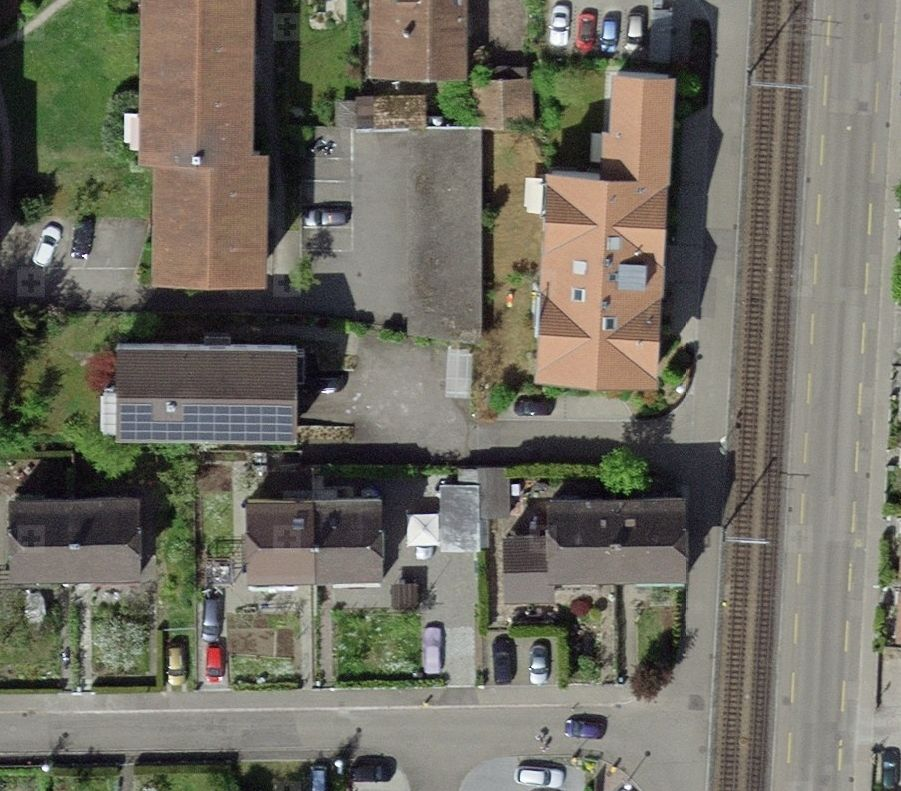solar: (116, 397, 299, 444)
